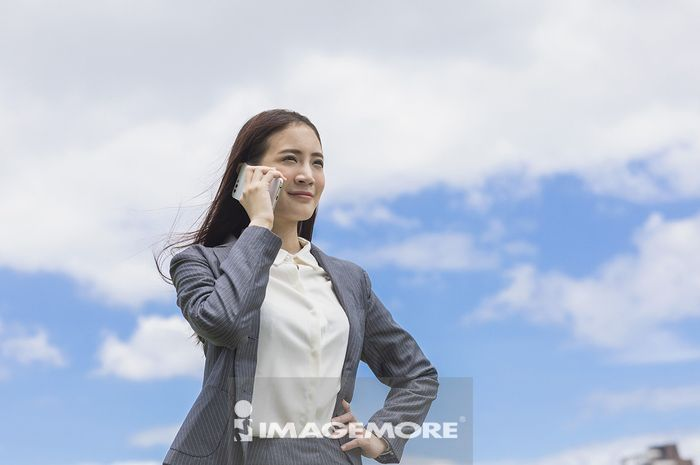phone: (231, 163, 282, 215)
talk: (231, 142, 326, 227)
